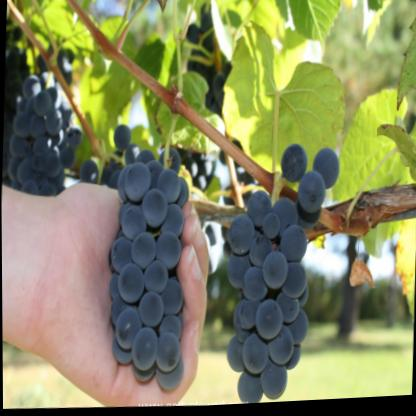grape: (201, 111, 358, 408), (96, 107, 202, 404), (0, 11, 89, 208)
